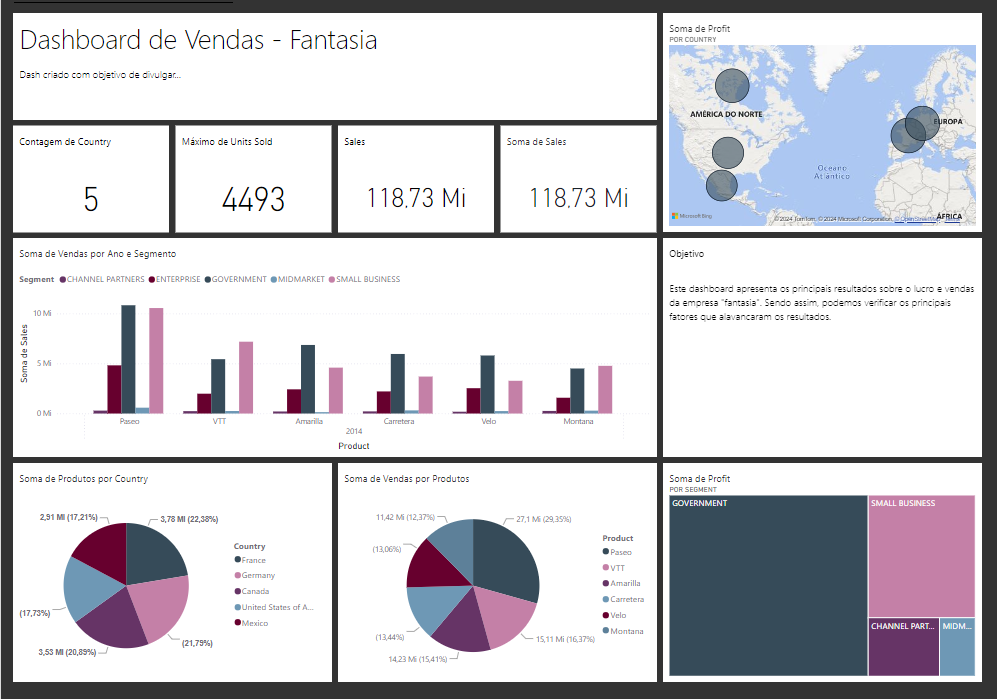

This screenshot's page, from the dashboard's own definition file:
{"tool":"powerbi","page":{"name":"Página 1","canvas":[1280,720],"ordinal":0},"visuals":[{"type":"shape","box":[9.8,0,1270.5,720.2],"z":0},{"type":"slicer","fields":{"Values":["financials.Date"]},"box":[933,83.1,266.6,56.3],"z":0,"group":"g2"},{"type":"shape","box":[84.6,176,223,107.5],"z":0,"group":"g1"},{"type":"map","title":"Soma de  vendas por País-map","fields":{"Category":["financials.Country"],"Size":["Sum(financials. Sales)"]},"box":[880.4,480.6,380.3,227.4],"z":0,"group":"g3"},{"type":"shape","title":"sales x segmentação","box":[84.6,482.3,381.5,225.7],"z":0,"group":"g4"},{"type":"shape","box":[9.6,0,57.6,720.4],"z":1000},{"type":"textbox","box":[703.1,86.8,210.3,48.9],"z":1000,"group":"g2"},{"type":"shape","box":[322.4,176,223,107.5],"z":1000,"group":"g1"},{"type":"donutChart","title":"vendas por segmento ","fields":{"Y":["Sum(financials. Sales)"],"Category":["financials.Segment"]},"box":[86.8,480.6,379.1,227.4],"z":1000,"group":"g4"},{"type":"actionButton","title":"Botão-map","box":[1121.5,480.1,63.6,30.6],"z":1250,"group":"g3"},{"type":"actionButton","title":"Botão-tre map","box":[1190,480.1,63.6,30.6],"z":1500,"group":"g3"},{"type":"barChart","fields":{"Y":["Sum(financials. Sales)"],"Category":["financials.Segment"]},"box":[86.8,481.8,379.1,226.2],"z":1500,"group":"g4"},{"type":"shape","box":[9.6,0,57.6,68.6],"z":2000},{"type":"actionButton","box":[1208.1,83.1,62.4,52.6],"z":2000,"group":"g2"},{"type":"shape","box":[1038.4,176,223,107.5],"z":2000,"group":"g1"},{"type":"actionButton","title":"Botão-pie","box":[402.3,481.8,63.6,30.6],"z":2000,"group":"g4"},{"type":"image","title":"clean","box":[1207.7,75.2,53.7,63.1],"z":2500,"group":"g2"},{"type":"actionButton","title":"Botão-bar","box":[333.8,481.8,63.6,30.6],"z":2500,"group":"g4"},{"type":"image","title":"logo-dio","box":[3.7,0,68.5,68.5],"z":3000},{"type":"shape","box":[802,176,221.7,107.5],"z":3000,"group":"g1"},{"type":"shape","box":[67.2,0,1213,68.6],"z":4000},{"type":"shape","box":[562.9,176,221.7,107.5],"z":4000,"group":"g1"},{"type":"textbox","box":[72.7,2.7,345.8,65.9],"z":5000},{"type":"card","fields":{"Values":["Sum(financials. Sales)"]},"box":[86.4,180,221.7,100.8],"z":5000,"group":"g1"},{"type":"shape","box":[86.8,128.4,221.3,37.9],"z":6000},{"type":"card","fields":{"Values":["Sum(financials.COGS)"]},"box":[1038.1,176.1,222.6,101.5],"z":6000,"group":"g1"},{"type":"group","id":"g1","title":"cartões","box":[84.6,176,1176.8,107.5],"z":7000},{"type":"card","fields":{"Values":["Sum(financials.Units Sold)"]},"box":[322.8,178.5,222.6,101.5],"z":7000,"group":"g1"},{"type":"textbox","box":[84.6,99.4,237.8,48.4],"z":8000},{"type":"card","fields":{"Values":["Sum(financials.Discounts)"]},"box":[562.5,179.8,222.6,101.5],"z":8000,"group":"g1"},{"type":"card","fields":{"Values":["Sum(financials.Units Sold)"]},"box":[802.1,179.8,222.6,101.5],"z":9000,"group":"g1"},{"type":"shape","box":[72.5,292.9,1198.3,178.7],"z":9000},{"type":"shape","box":[482.3,482.3,381.5,225.7],"z":10000},{"type":"shape","box":[879.9,482.3,381.5,225.7],"z":11000},{"type":"areaChart","fields":{"Category":["financials.Date.Variation.Hierarquia de datas.Mês"],"Y":["Sum(financials. Sales)"]},"box":[84.6,306.3,1176.8,151.8],"z":12000},{"type":"clusteredBarChart","title":"Soma de  Vendas por Produtos","fields":{"Y":["Sum(financials. Sales)"],"Category":["financials.Product"]},"box":[480.6,480.6,382.7,227.4],"z":13000},{"type":"group","id":"g2","title":"filtro por data","box":[703.1,75.2,567.4,64.2],"z":14000},{"type":"group","id":"g3","title":"vendas por pais- mapas","box":[880.4,480.1,381.5,229.2],"z":15000},{"type":"group","id":"g4","title":"sales x segmento- primeiro","box":[84.6,480.6,381.5,227.4],"z":16000},{"type":"actionButton","box":[14.7,665.2,52.6,42.8],"z":17000}]}

Visuals, with their boxes on the page's 1280x720 design canvas (x1, y1, x2, y2). These are canvas units, not pixel positions in the 997x699 screenshot, which may show the page scaled, cropped or inside an application window:
shape: locate(10, 0, 1280, 720)
slicer - financials.Date: locate(933, 83, 1200, 139)
shape: locate(85, 176, 308, 284)
"Soma de  vendas por País-map" map: locate(880, 481, 1261, 708)
"sales x segmentação" shape: locate(85, 482, 466, 708)
shape: locate(10, 0, 67, 720)
textbox: locate(703, 87, 913, 136)
shape: locate(322, 176, 545, 284)
"vendas por segmento " donutChart: locate(87, 481, 466, 708)
"Botão-map" actionButton: locate(1122, 480, 1185, 511)
"Botão-tre map" actionButton: locate(1190, 480, 1254, 511)
barChart - Sum(financials. Sales) x financials.Segment: locate(87, 482, 466, 708)
shape: locate(10, 0, 67, 69)
actionButton: locate(1208, 83, 1270, 136)
shape: locate(1038, 176, 1261, 284)
"Botão-pie" actionButton: locate(402, 482, 466, 512)
"clean" image: locate(1208, 75, 1261, 138)
"Botão-bar" actionButton: locate(334, 482, 397, 512)
"logo-dio" image: locate(4, 0, 72, 68)
shape: locate(802, 176, 1024, 284)
shape: locate(67, 0, 1280, 69)
shape: locate(563, 176, 785, 284)
textbox: locate(73, 3, 418, 69)
card - Sum(financials. Sales): locate(86, 180, 308, 281)
shape: locate(87, 128, 308, 166)
card - Sum(financials.COGS): locate(1038, 176, 1261, 278)
"cartões" group: locate(85, 176, 1261, 284)
card - Sum(financials.Units Sold): locate(323, 178, 545, 280)
textbox: locate(85, 99, 322, 148)
card - Sum(financials.Discounts): locate(562, 180, 785, 281)
card - Sum(financials.Units Sold): locate(802, 180, 1025, 281)
shape: locate(72, 293, 1271, 472)
shape: locate(482, 482, 864, 708)
shape: locate(880, 482, 1261, 708)
areaChart - financials.Date.Variation.Hierarquia de datas.Mês x Sum(financials. Sales): locate(85, 306, 1261, 458)
"Soma de  Vendas por Produtos" clusteredBarChart: locate(481, 481, 863, 708)
"filtro por data" group: locate(703, 75, 1270, 139)
"vendas por pais- mapas" group: locate(880, 480, 1262, 709)
"sales x segmento- primeiro" group: locate(85, 481, 466, 708)
actionButton: locate(15, 665, 67, 708)
